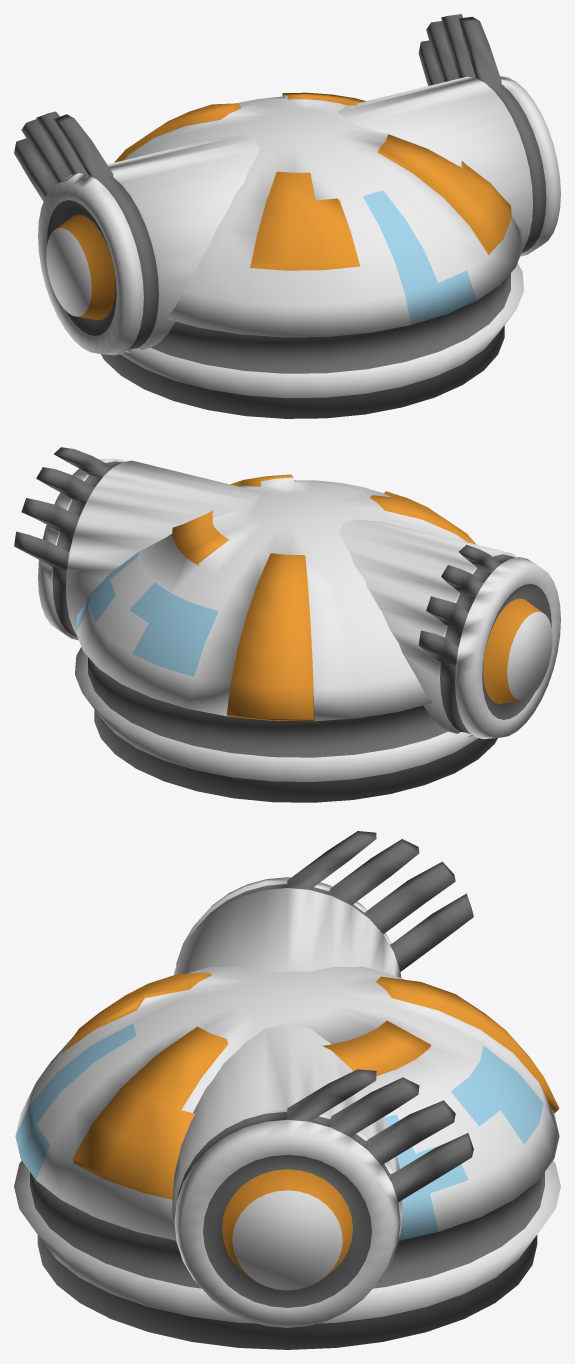
Rendered from head8.glb.
3 views of the same model, one above another, from view 1: azimuth 30°, elevation 25°; view 2: azimuth 150°, elevation 25°; view 3: azimuth 270°, elevation 25° (orthographic). The views are drawn at different scales.
Visible parts, largest first — view 1: body10; view 2: body10; view 3: body10.
Boxes of the visible parts, x1,y1,x2,y2 form: body10: (14, 14, 560, 418); body10: (14, 447, 560, 802); body10: (14, 831, 560, 1349).
Bounding box in the file's own units: 2.33 × 1.25 × 1.97.
